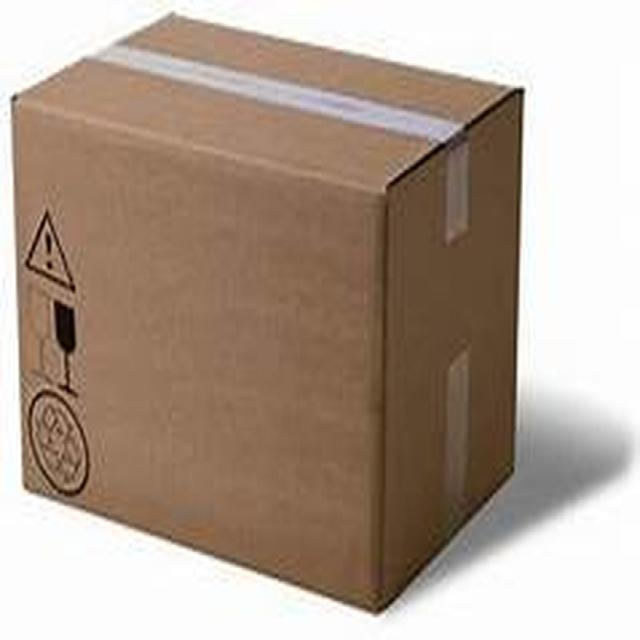box: (4, 67, 558, 606)
